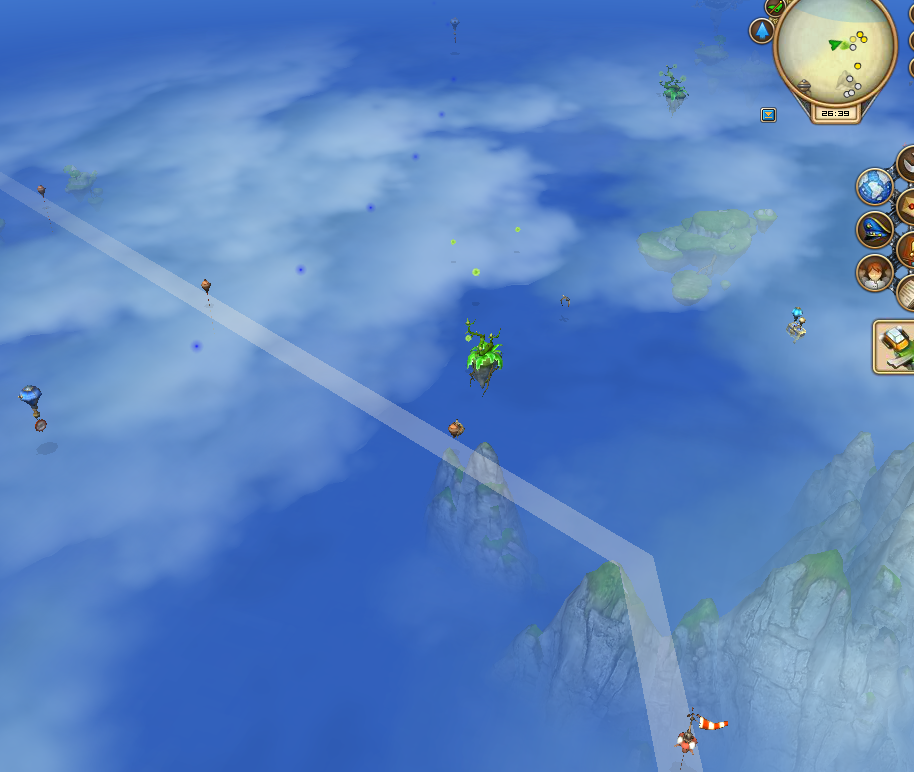dandelion-full: (459, 313, 507, 391), (655, 63, 691, 108)
fluff: (511, 224, 524, 235), (471, 266, 482, 277), (449, 236, 459, 248)
